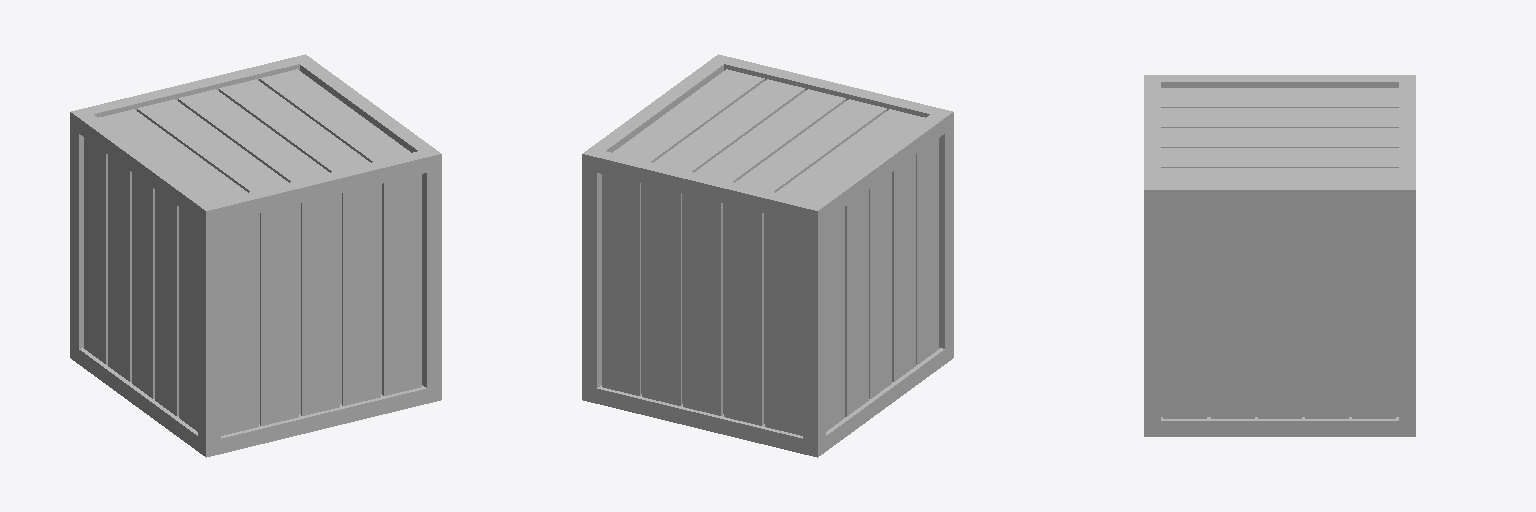
Rendered from crate.obj.
The picture shows the model from 3 angles: view 1: azimuth 30°, elevation 25°; view 2: azimuth 150°, elevation 25°; view 3: azimuth 270°, elevation 25°; orthographic projection.
Parts seen in each view (by area): view 1: crate; view 2: crate; view 3: crate.
Boxes of the visible parts, x1,y1,x2,y2 form: crate: [70, 54, 441, 457]; crate: [582, 54, 953, 457]; crate: [1144, 75, 1415, 436].
Bounding box in the file's own units: 2.01 × 2.01 × 2.01.